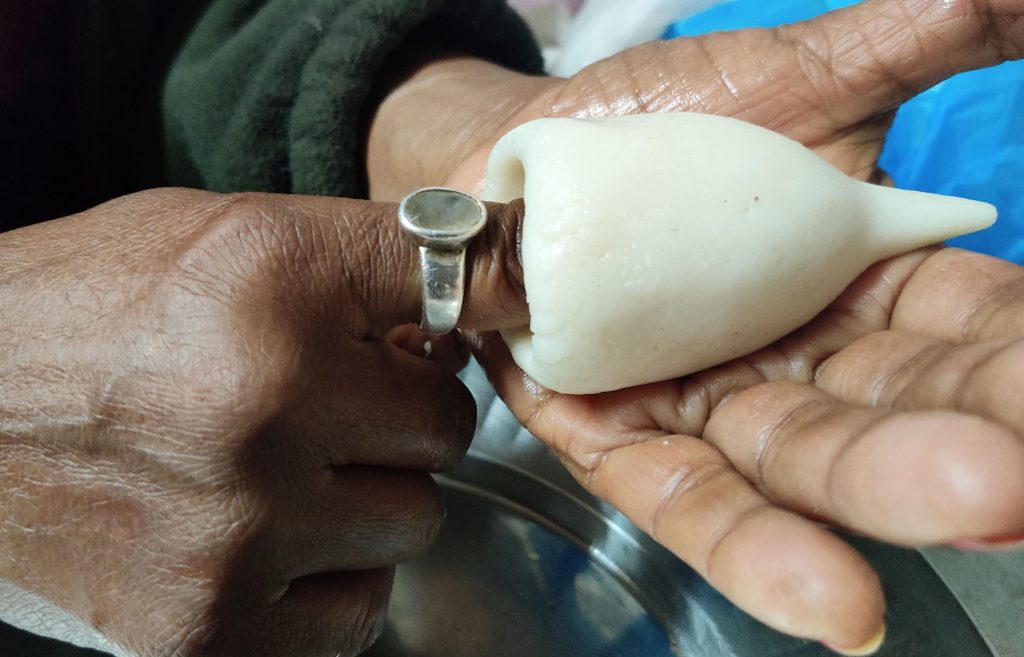yomari: (490, 110, 1004, 367)
